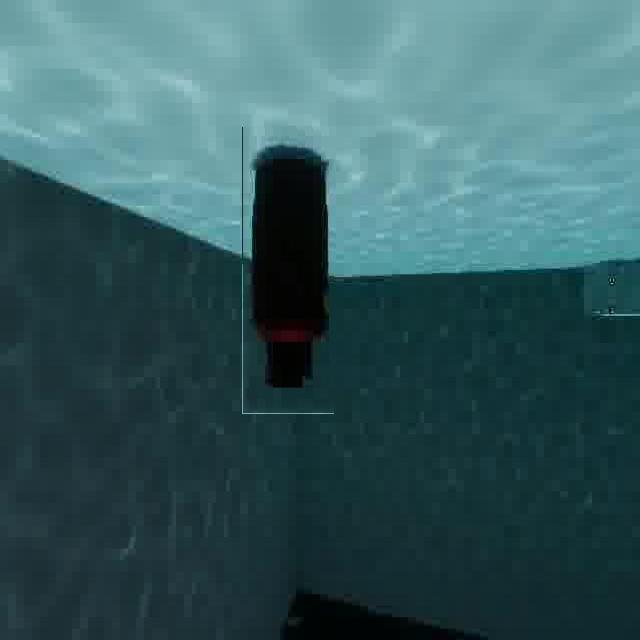Cylinder: (242, 127, 334, 414)
Docking Station: (578, 253, 640, 331)
